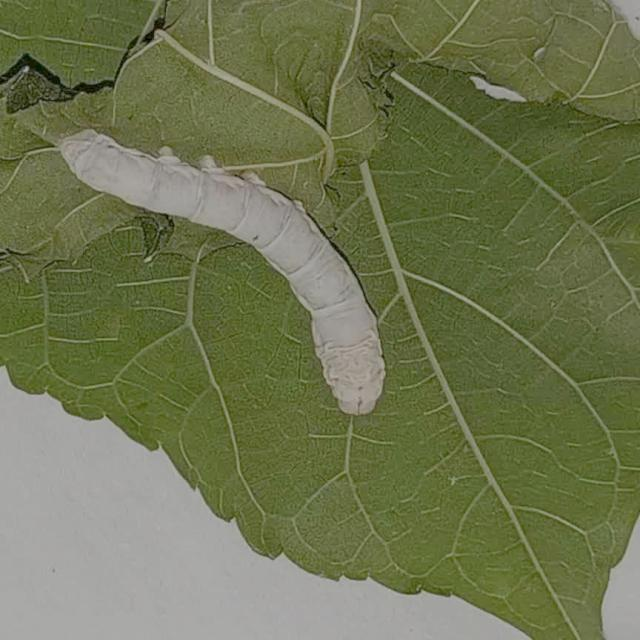Healthy: (48, 113, 416, 431)
